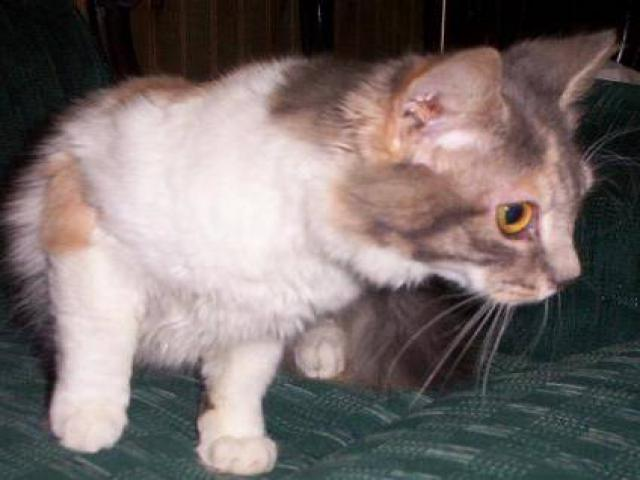cat: (11, 24, 628, 470)
